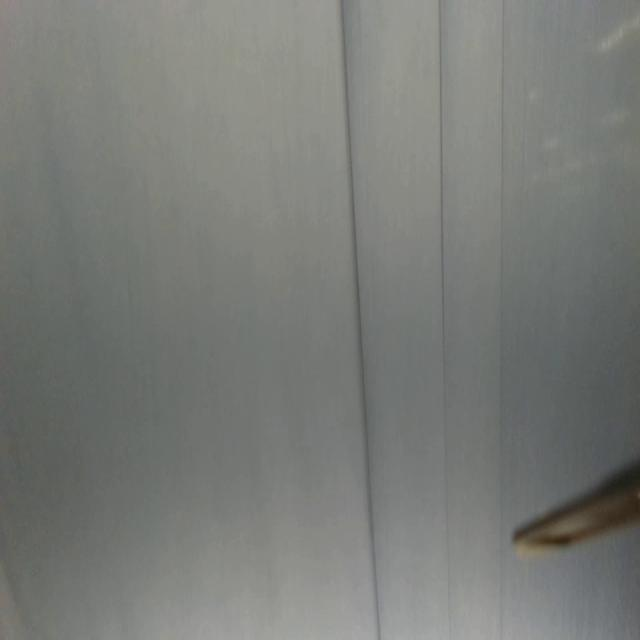crease: (339, 0, 382, 640), (436, 0, 454, 640), (496, 0, 506, 636)
